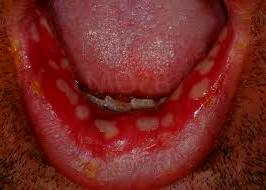Ulcer: (188, 26, 233, 74), (126, 112, 178, 146), (165, 77, 215, 106), (20, 13, 55, 44), (85, 115, 118, 147), (42, 51, 76, 76), (67, 101, 91, 122), (51, 83, 77, 101)
